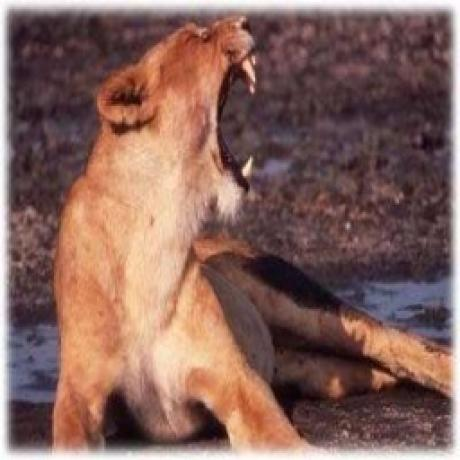Lion: (53, 17, 455, 450)
